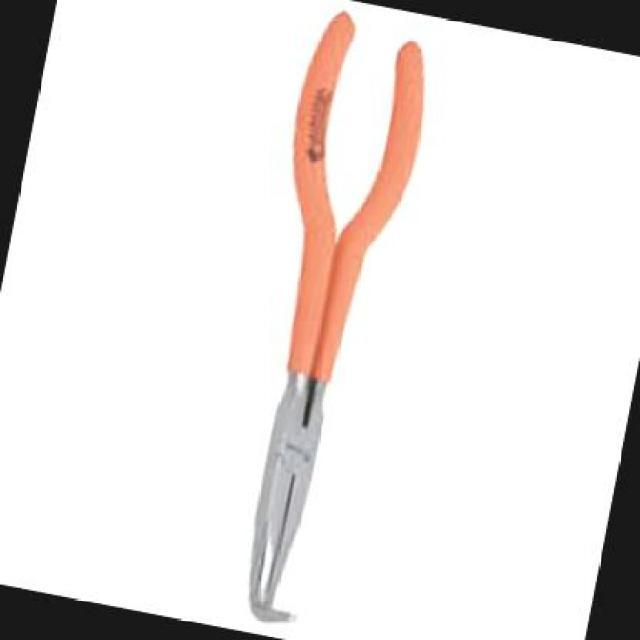pliers: (152, 0, 469, 638)
